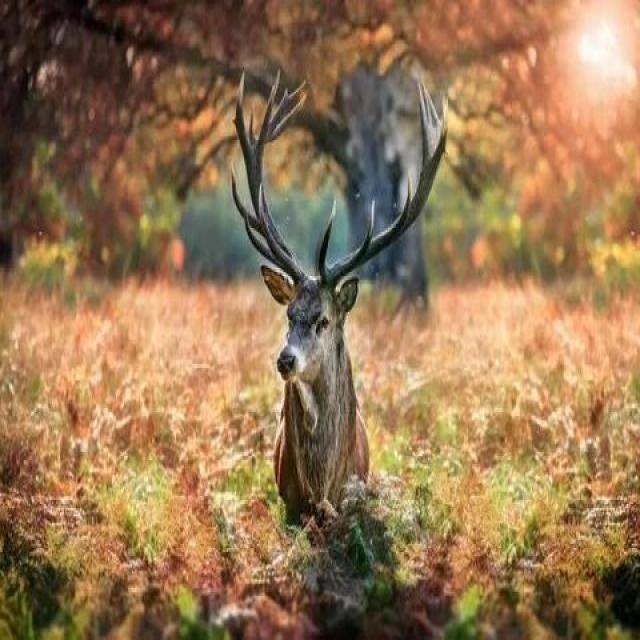deer: (200, 181, 434, 492)
